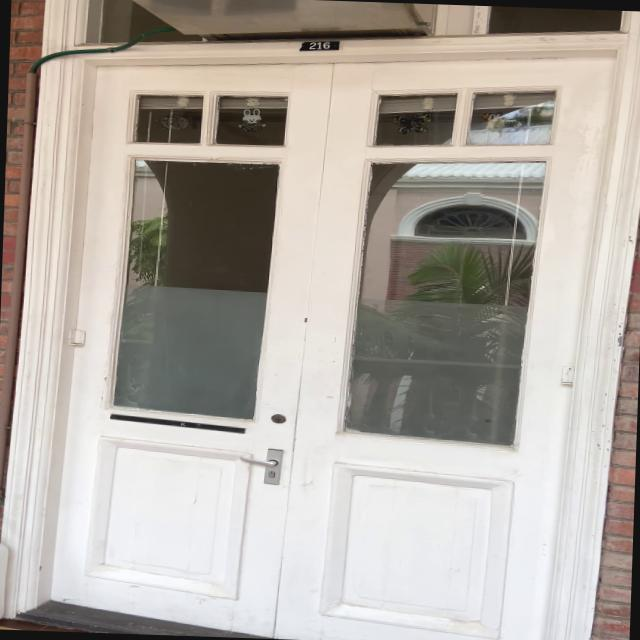room216: (294, 38, 342, 53)
